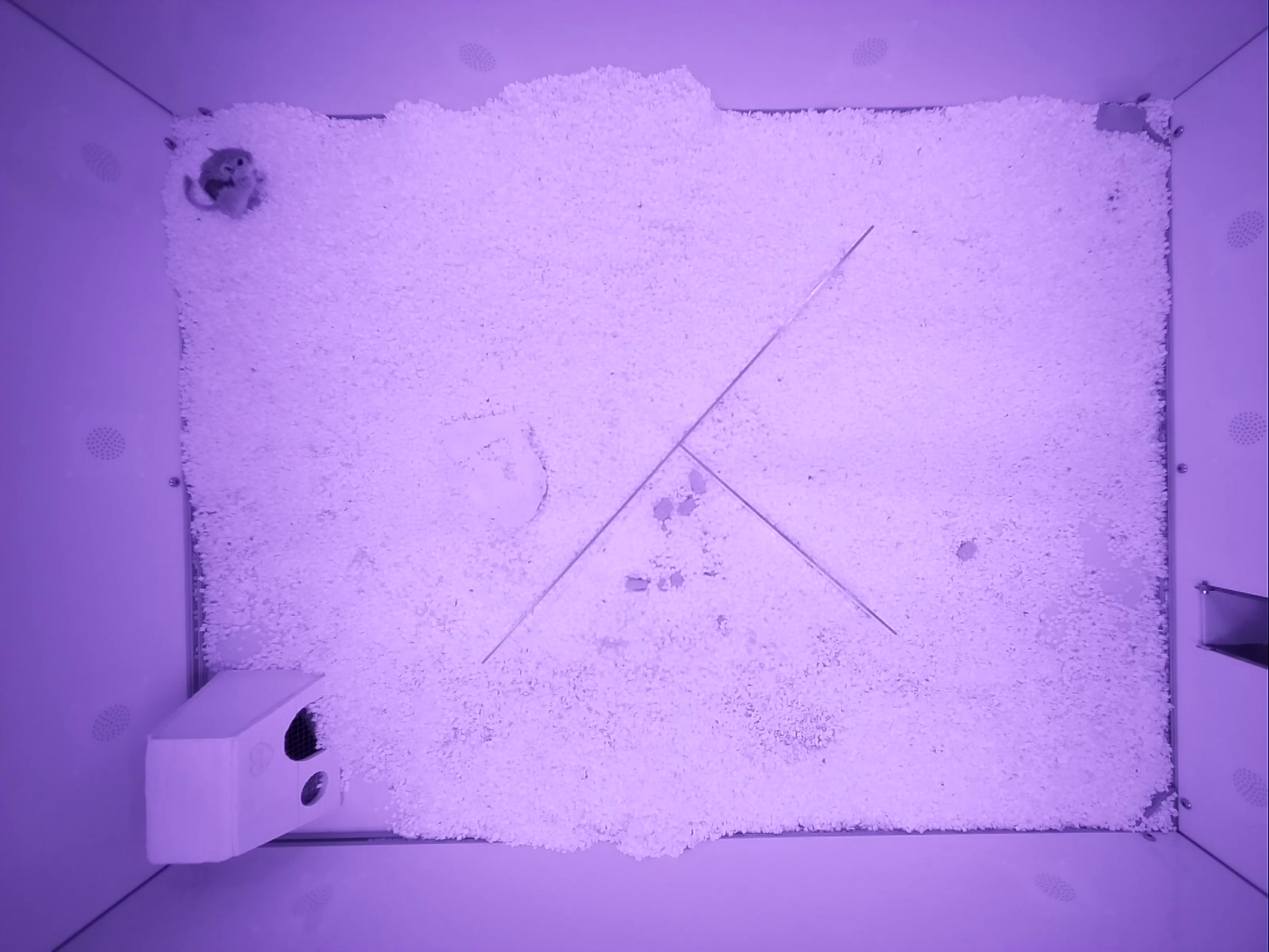adult_back: (184, 147, 264, 217)
